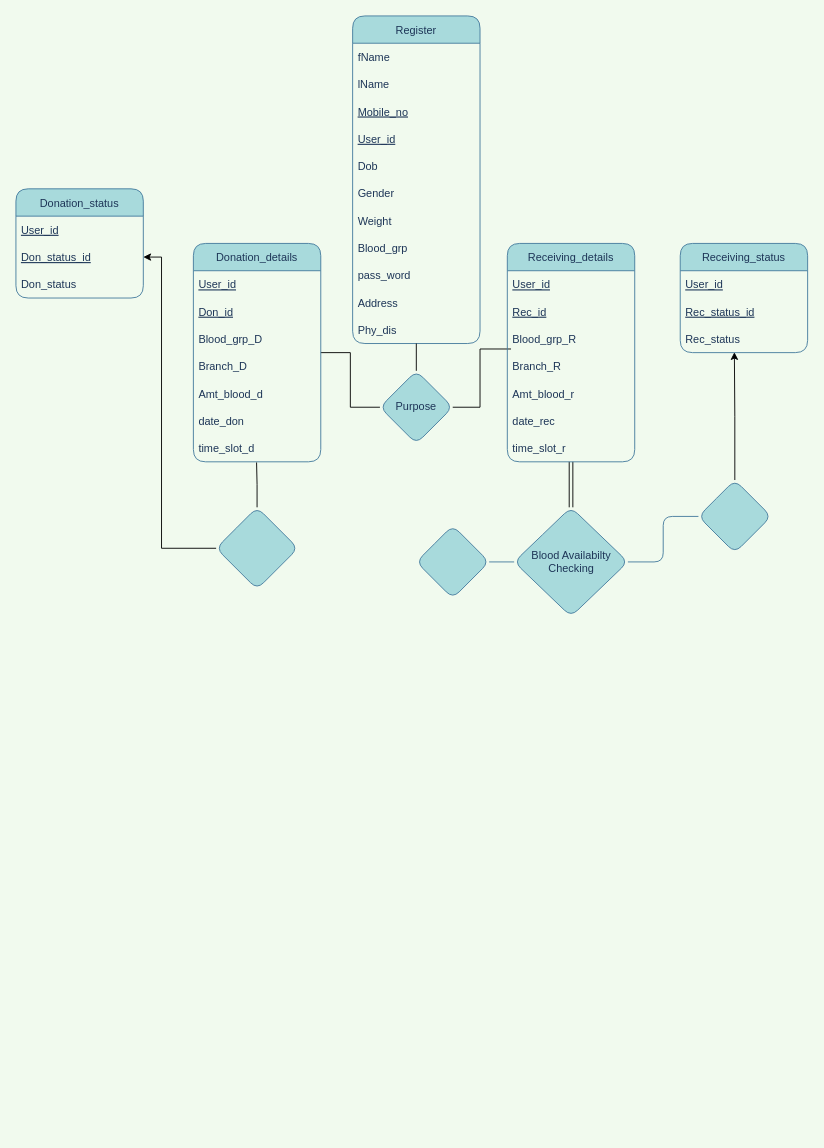
The diagram is 824 pixels wide and 1148 high, and some of its shapes have lost their labels. Here are the shapes that lost their labels. From the top down, the centre of each, then its label:
the point at 734,516: Confirmed
the point at 256,547: Slot Confirmation
the point at 452,561: Not Confirmed
